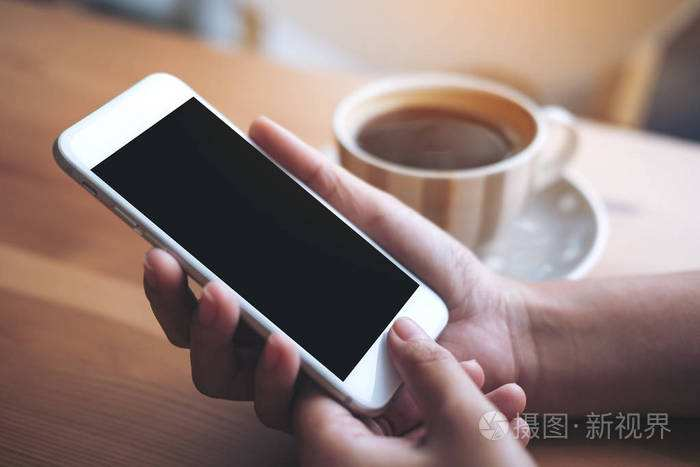phone: (47, 66, 541, 460)
